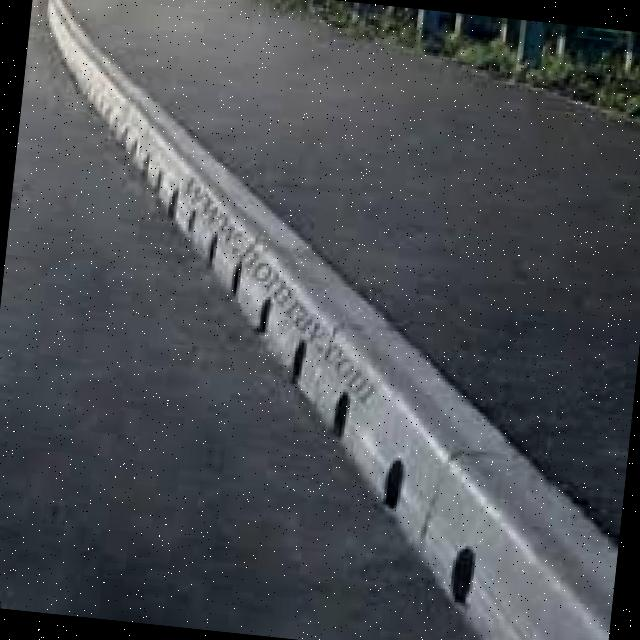curb: (351, 398, 626, 640), (196, 169, 355, 364), (67, 50, 232, 228), (294, 266, 441, 452), (33, 1, 103, 83)
